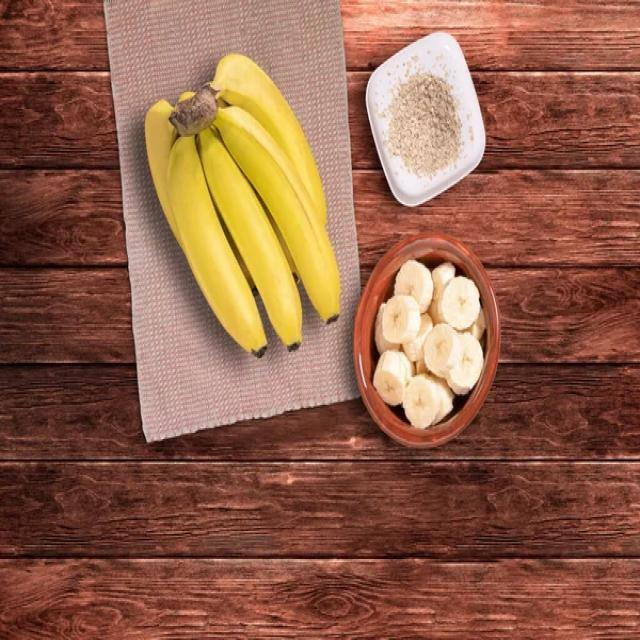banana: (142, 45, 341, 361)
